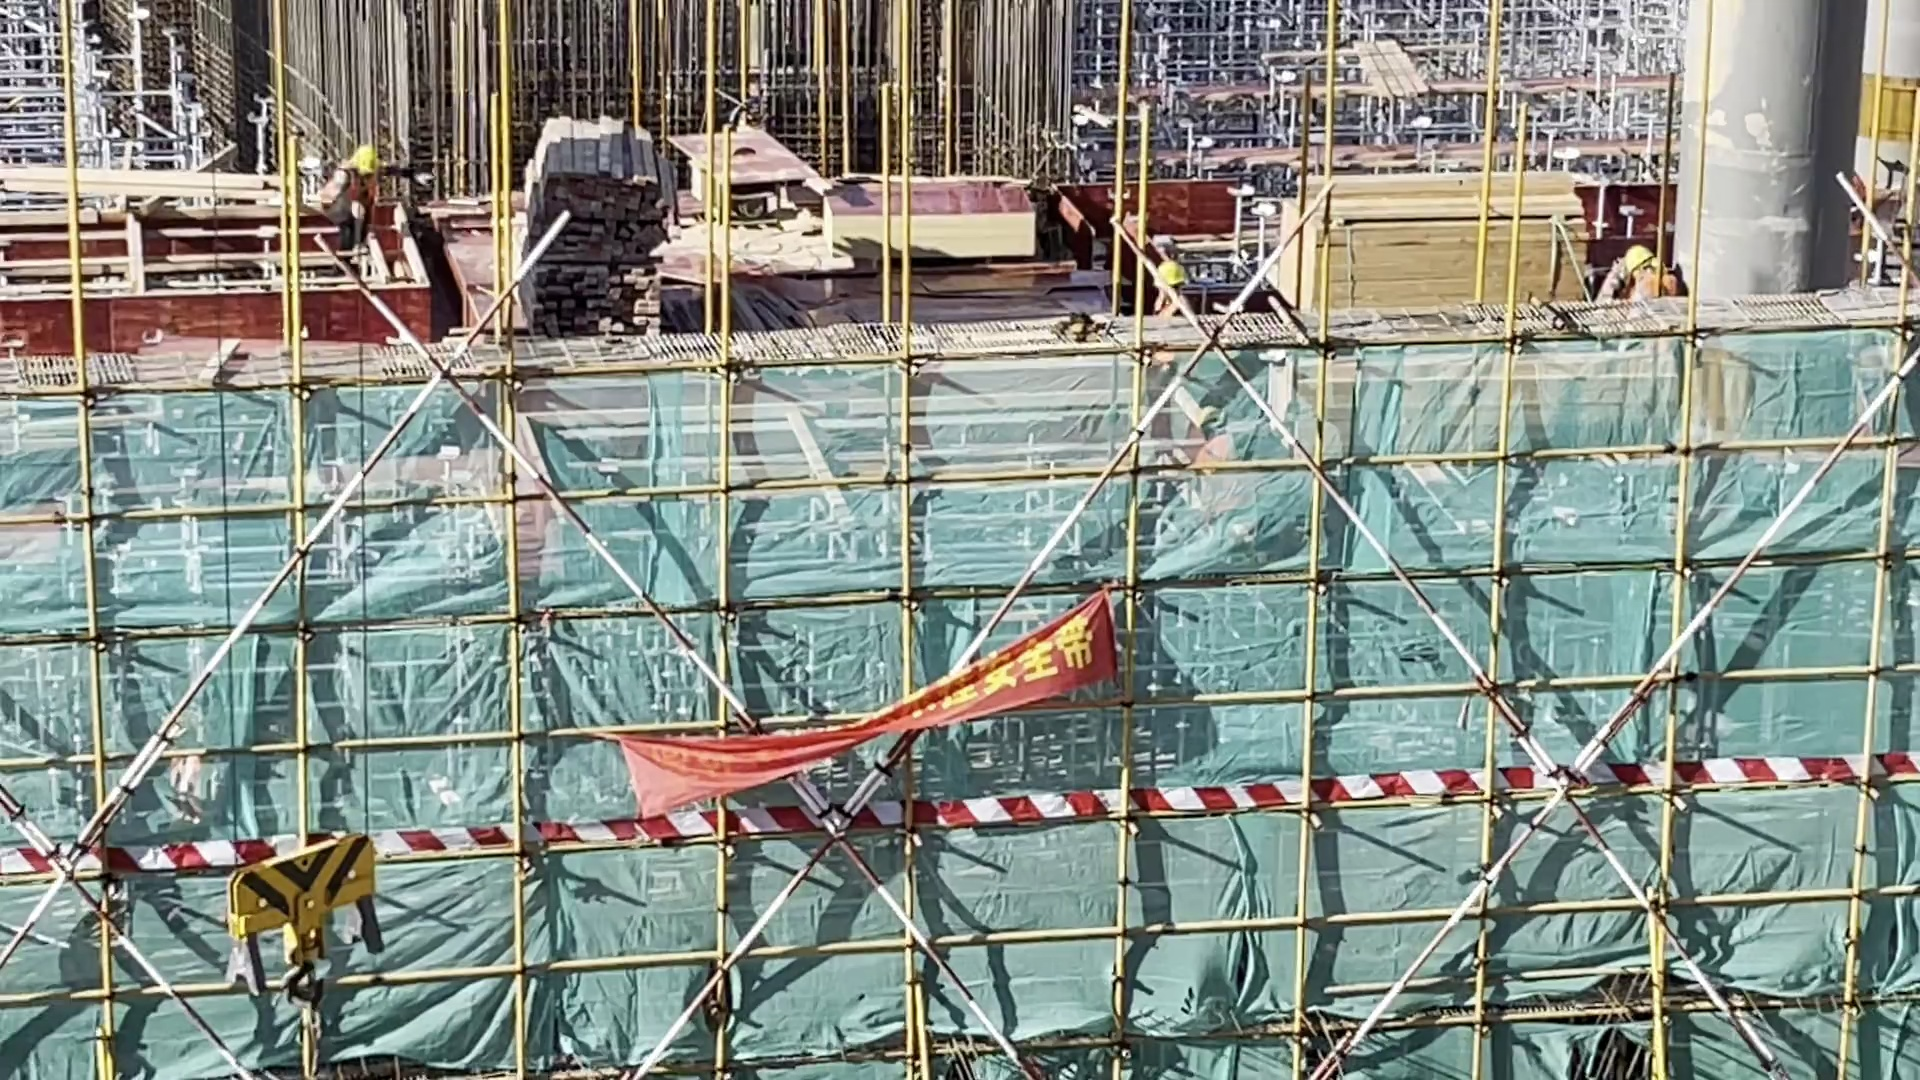cutter: (704, 140, 772, 165)
helmet: (344, 137, 378, 178)
hook: (212, 829, 395, 1013)
person: (303, 137, 384, 249), (1590, 244, 1692, 306), (1135, 257, 1189, 332)
slogan: (609, 584, 1132, 823)
wood: (1266, 155, 1590, 319), (510, 106, 677, 343)
